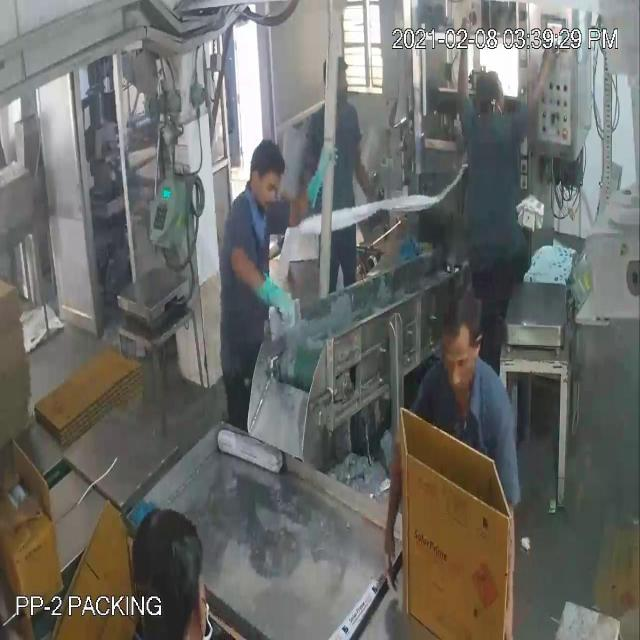Gloves: (24, 85, 390, 508)
